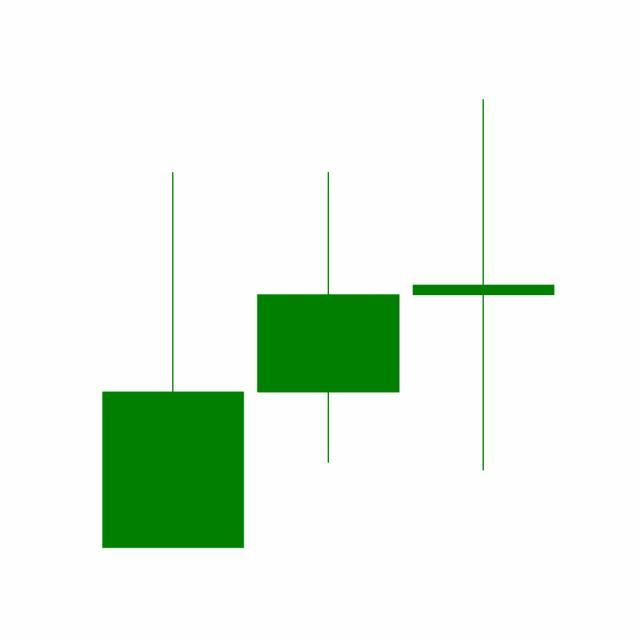Spinning Top: (406, 95, 562, 475)
